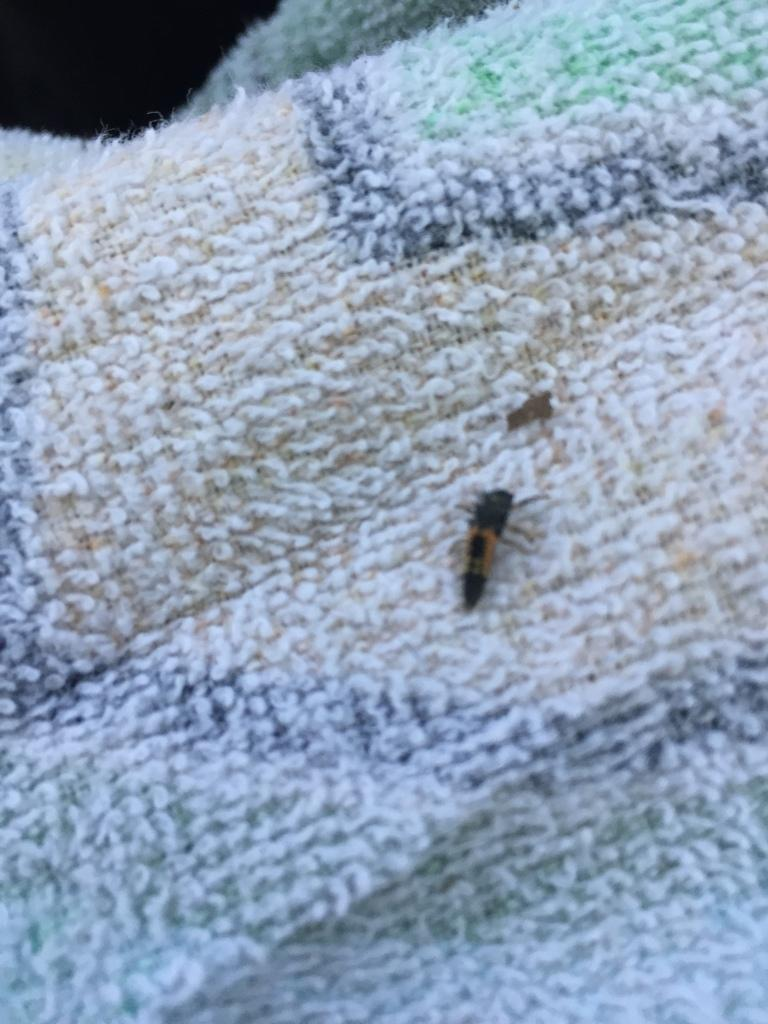ladybug: (455, 487, 554, 614)
